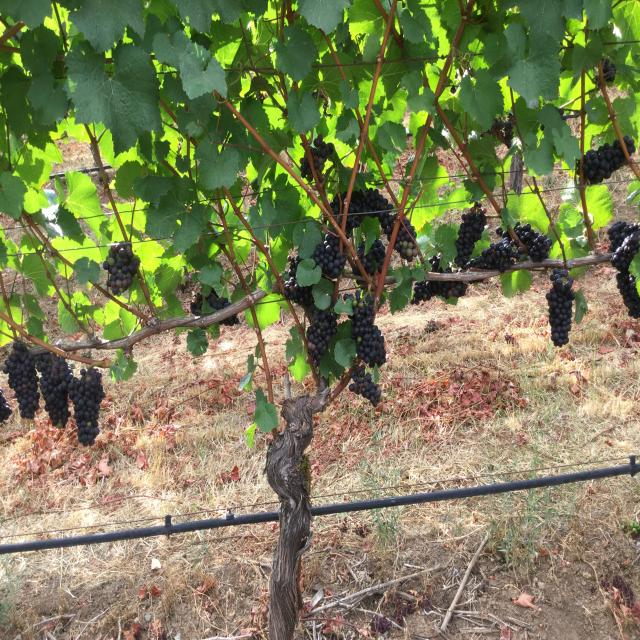grapes: (466, 222, 552, 273), (608, 220, 640, 318), (69, 368, 105, 447), (36, 353, 74, 427), (345, 188, 398, 240), (4, 342, 40, 418), (351, 290, 386, 367), (546, 268, 575, 347), (455, 202, 486, 268), (102, 242, 140, 295), (582, 140, 625, 183), (306, 310, 338, 367), (311, 233, 346, 278), (284, 255, 314, 307), (411, 280, 468, 305), (349, 365, 381, 407), (394, 218, 419, 262), (358, 238, 385, 275), (429, 253, 451, 273), (331, 193, 345, 217), (625, 137, 635, 153), (352, 267, 360, 275)
